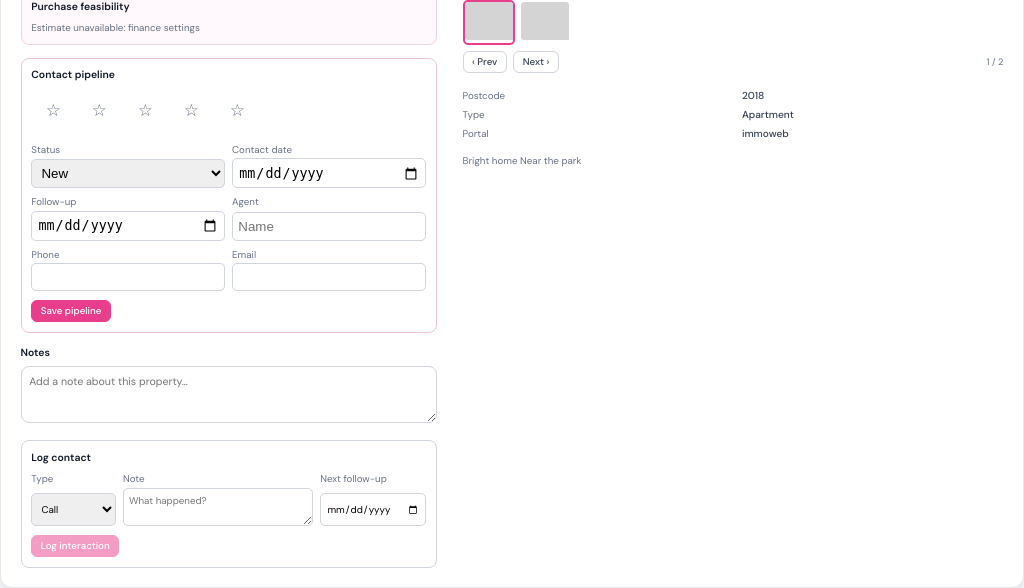
Test: DetailPanel › logs a contact event and shows it in the timeline
(page scrolled)
Step 1. Select "Call" in the dropdown with class "interaction-kind" → (74, 510), box [31,493,116,526]
Step 2. Type "Asked about the viewing" into the text box with class "interaction-note" → (218, 507), box [123,488,313,526]
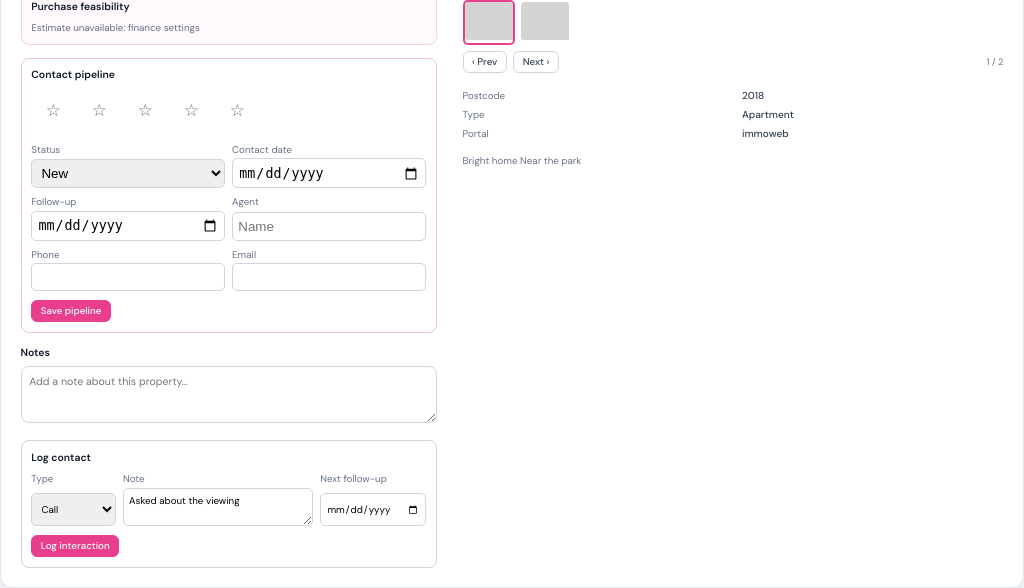
Step 3. Type "2026-09-16" into the date field with class "interaction-follow-up" → (373, 510), box [320,493,426,526]
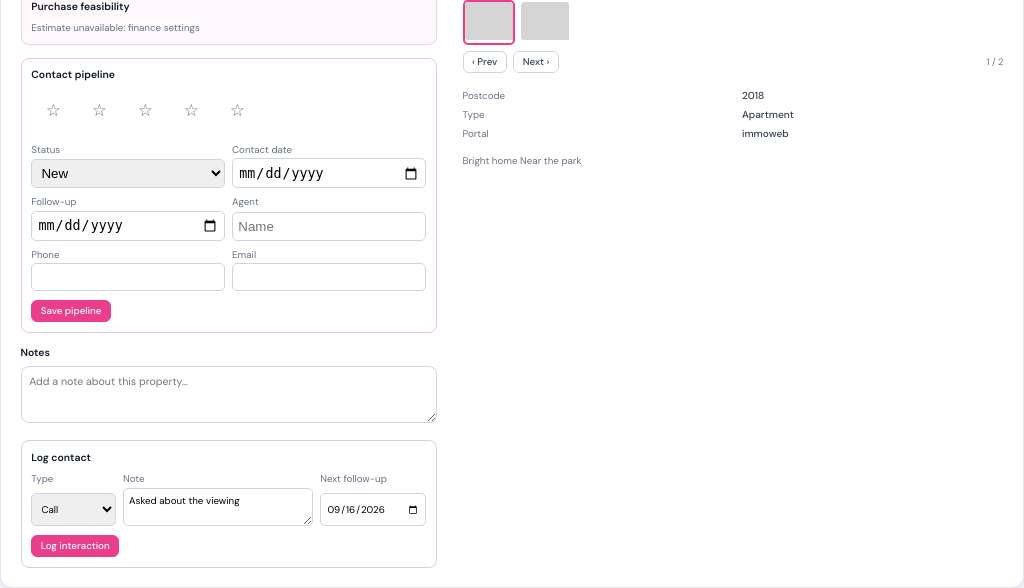
Step 4. Click the button with class "log-interaction" → (75, 546), box [31,535,119,557]
(page scrolled)
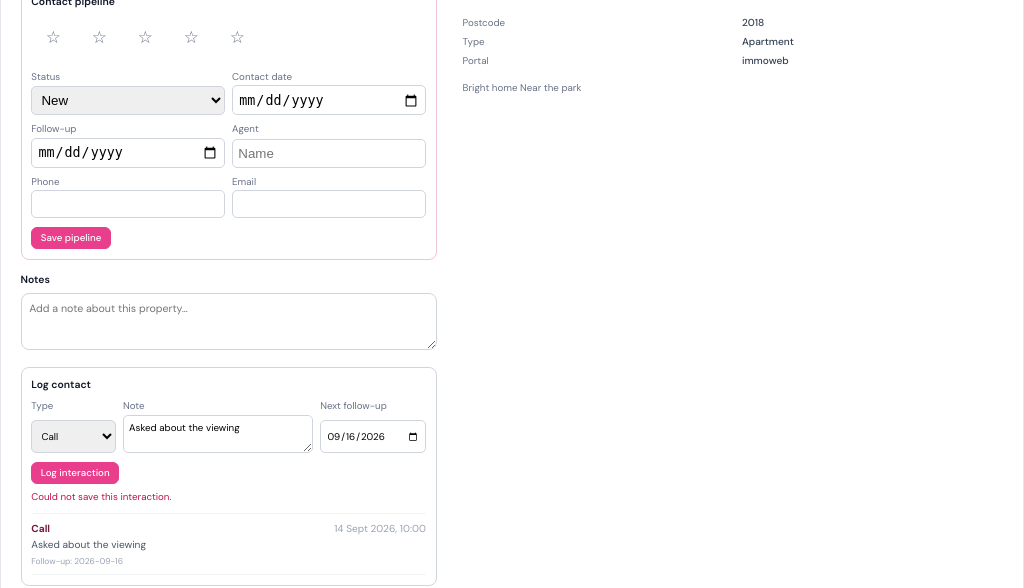
Now the element with class "interaction-item" shows "Asked about the viewing", box [31,538,146,551]
